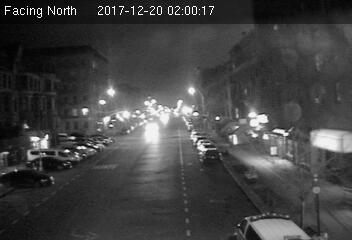car: (201, 148, 222, 163)
police: (228, 209, 321, 240)
